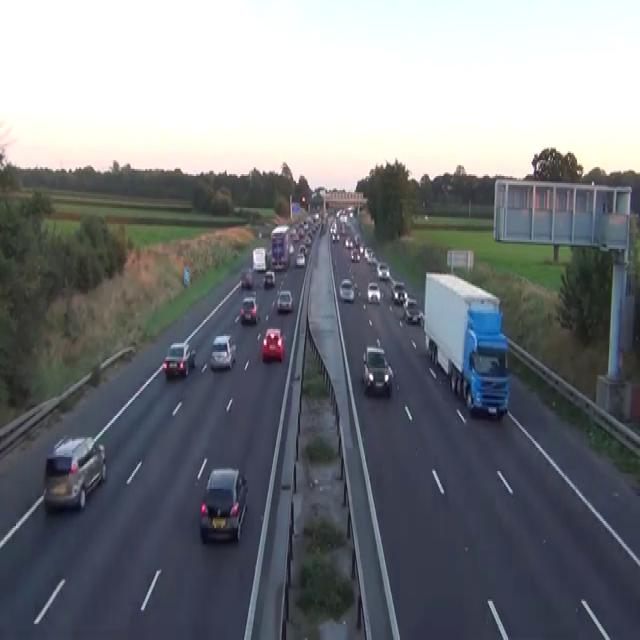Car: (43, 434, 106, 512), (199, 468, 248, 544), (362, 345, 394, 396), (162, 341, 196, 377), (210, 334, 236, 370), (262, 325, 285, 363), (239, 297, 258, 323), (403, 297, 422, 323), (390, 281, 407, 304), (339, 278, 354, 302), (276, 290, 293, 311), (367, 281, 381, 302), (240, 268, 253, 288), (263, 270, 275, 288), (377, 261, 389, 279), (404, 295, 417, 308), (295, 252, 305, 266), (364, 246, 373, 260), (350, 249, 360, 261), (344, 236, 353, 249), (367, 256, 377, 267), (298, 244, 307, 256), (367, 252, 375, 265), (347, 206, 354, 217), (331, 233, 339, 242), (304, 237, 311, 246), (313, 212, 319, 222), (288, 244, 294, 254), (359, 244, 364, 252), (258, 230, 262, 238)
Truck: (423, 270, 509, 418), (270, 224, 290, 268), (252, 247, 267, 272)
